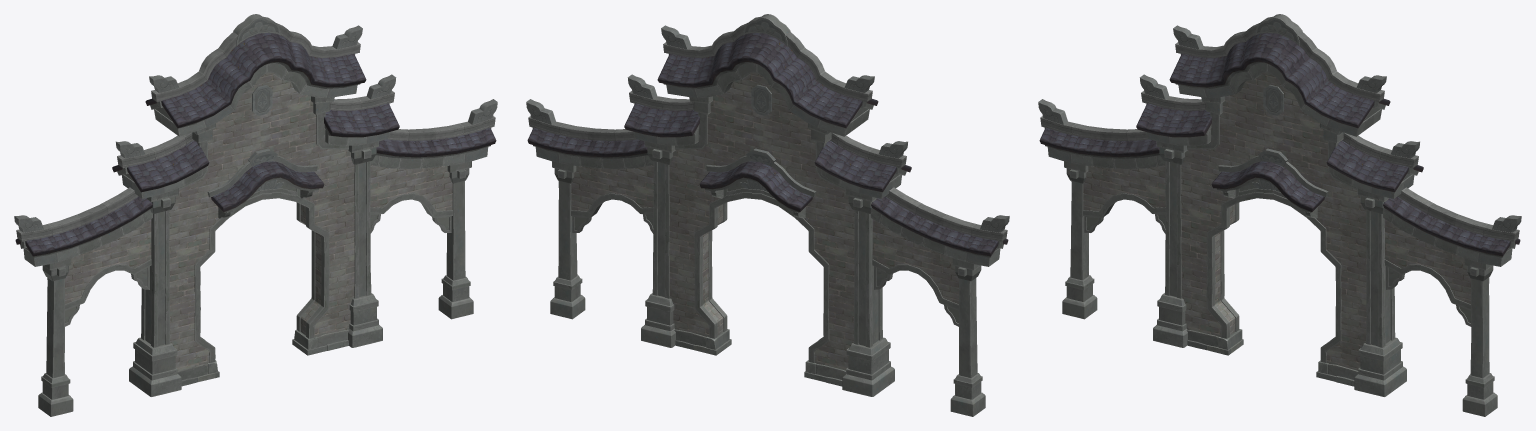
The model's file is Homeworld_Exterior_Cyg_Build_YlbPaifang_01_Lod0.fbx.
3 views of the same model, side by side, from view 1: azimuth 30°, elevation 25°; view 2: azimuth 150°, elevation 25°; view 3: azimuth 330°, elevation 25° (orthographic).
Parts seen in each view (by area): view 1: Area_Cyg_Build_YLB_Paifang_01_Lod0; view 2: Area_Cyg_Build_YLB_Paifang_01_Lod0; view 3: Area_Cyg_Build_YLB_Paifang_01_Lod0.
Boxes of the visible parts, x1=… form: Area_Cyg_Build_YLB_Paifang_01_Lod0: x1=14, y1=14, x2=497, y2=416; Area_Cyg_Build_YLB_Paifang_01_Lod0: x1=526, y1=14, x2=1009, y2=416; Area_Cyg_Build_YLB_Paifang_01_Lod0: x1=1038, y1=14, x2=1521, y2=416.
Size of what is drawn, in the model's own units: 17.61 by 12.09 by 2.29.
